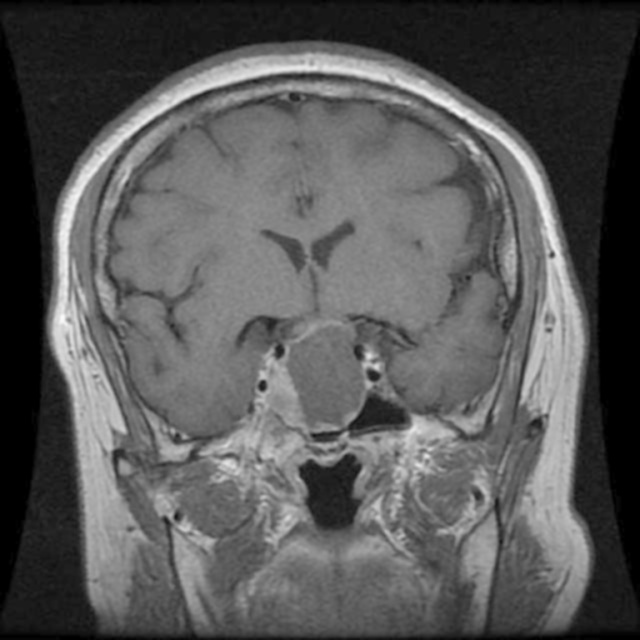no tumor: (288, 319, 374, 431)
